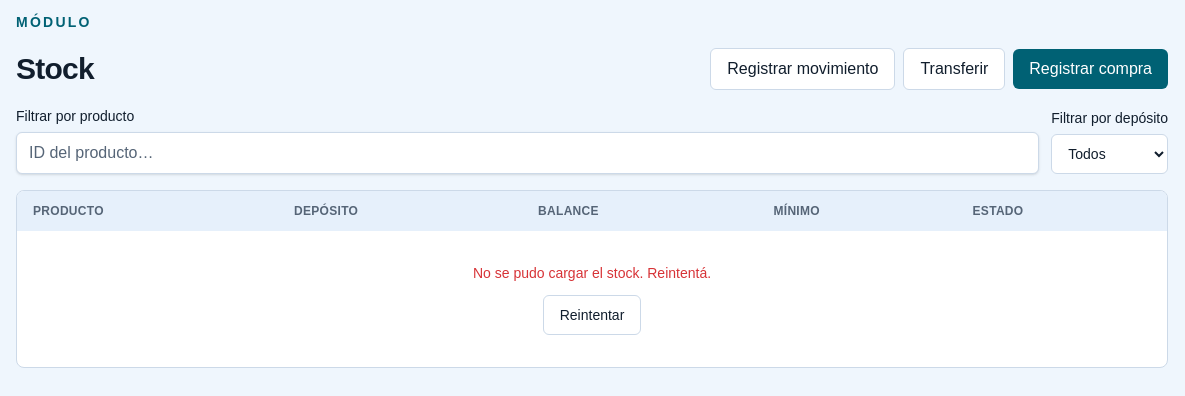
Test: StockPage › shows error and retries the load
This screenshot has width=1185, height=396.
Expected: the message "No se pudo cargar el stock. Reintentá. Reintentar" is shown, [473,265,711,335]
Click the button "Reintentar". click: (592, 315)
box: [543,295,641,335]
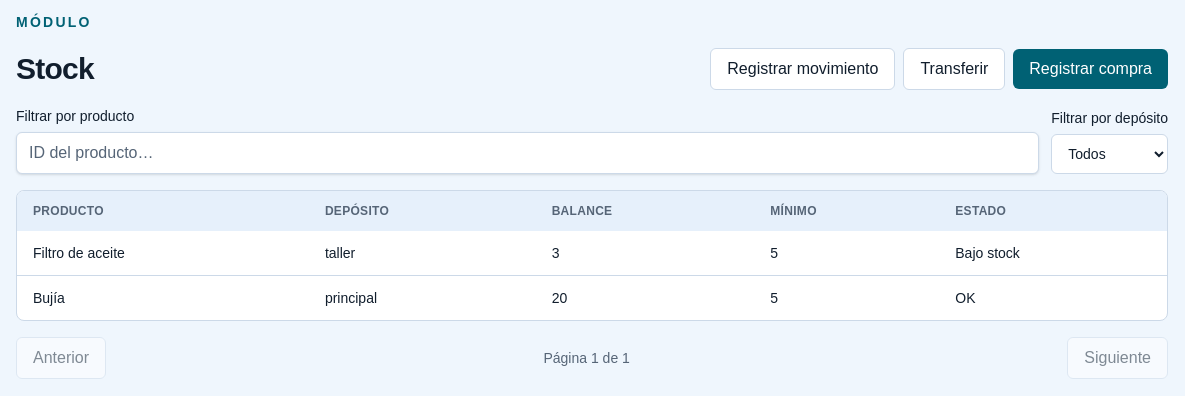
Result: the text "Filtro de aceite" is shown at [17,231,309,276]
